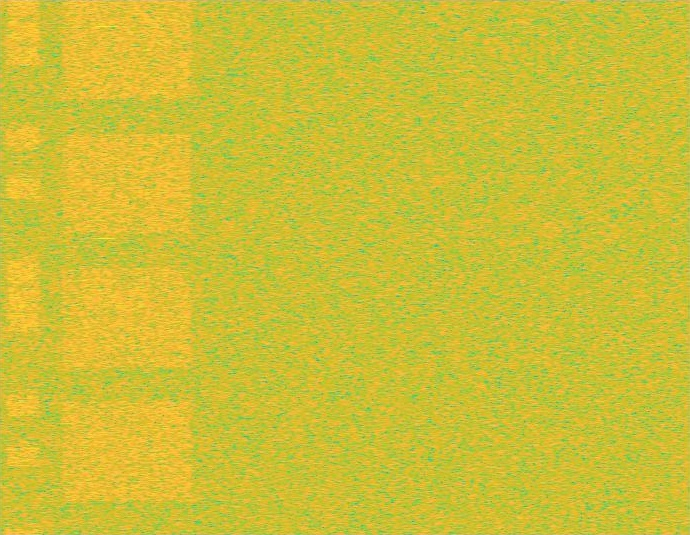5G: (58, 0, 196, 534)
LTE: (6, 0, 41, 534)
Radar: (99, 0, 113, 534)
